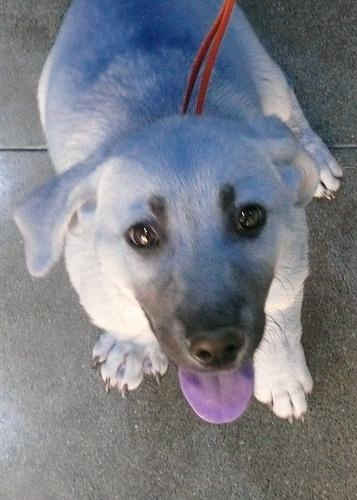dog-basset_hound: (14, 114, 320, 423)
